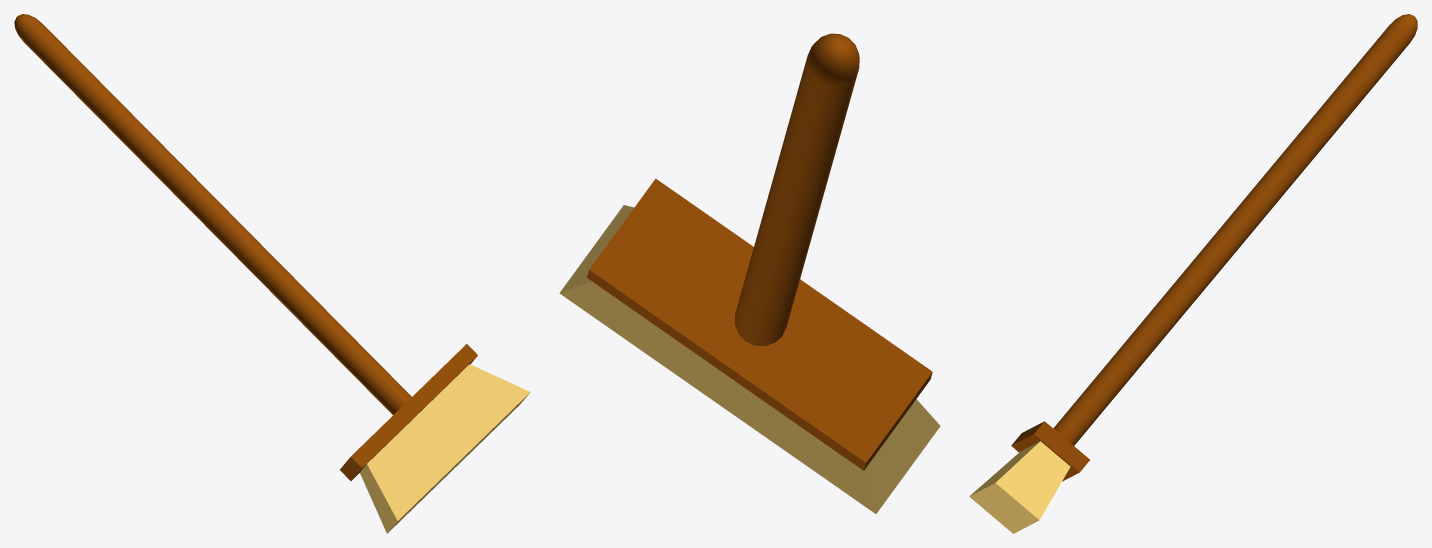
Rendered from Broom.fbx.
3 renders of one model, left to right at view 1: azimuth 30°, elevation 25°; view 2: azimuth 150°, elevation 25°; view 3: azimuth 270°, elevation 25°, orthographic. The views are drawn at different scales.
Parts seen in each view (by area): view 1: Cylinder; view 2: Cylinder; view 3: Cylinder.
Boxes of the visible parts, x1,y1,x2,y2 form: Cylinder: [14, 14, 530, 533]; Cylinder: [559, 33, 940, 513]; Cylinder: [969, 14, 1417, 533].
Bounding box in the file's own units: 319 × 393 × 370.
